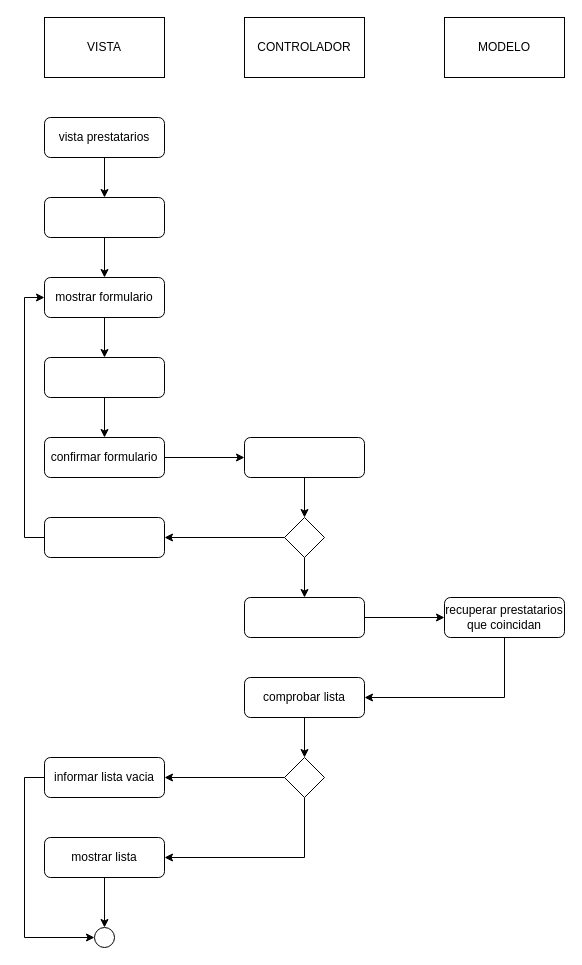
This 582x965 diagram has some shape labels left out. The shapes that lost their labels are listed below. From the top down, each one's centre as x and y in pixels, then its label:
At pixel 104 217: "listar prestatarios por id".
At pixel 104 377: "completar formulario".
At pixel 304 457: "validar datos".
At pixel 104 537: "informar error".
At pixel 304 617: "recuperar lista prestatarios".
